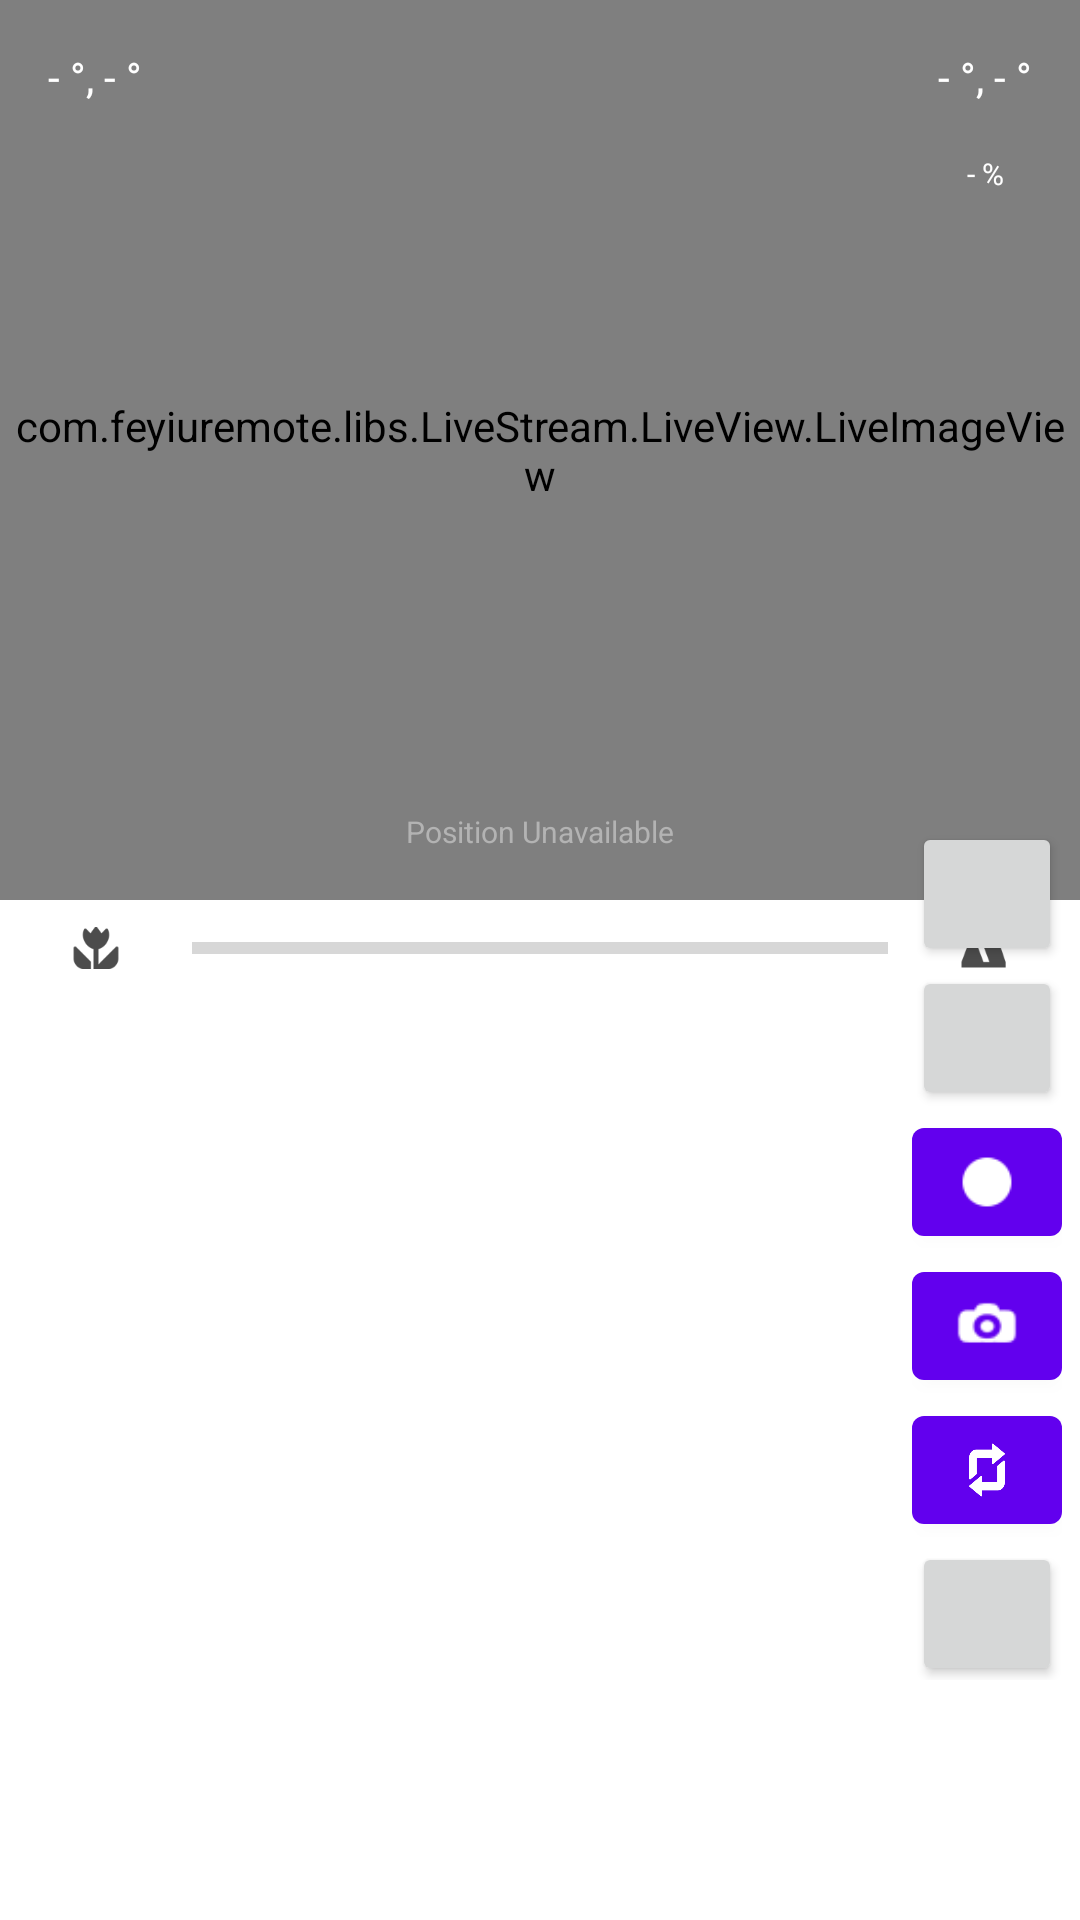

Where icons sit on this 1080*1920 app screen, as Rect(x1, y1, x2, y2):
macro: Rect(73, 927, 119, 969)
photo: Rect(912, 1272, 1062, 1380)
repeat: Rect(912, 1416, 1062, 1524)
